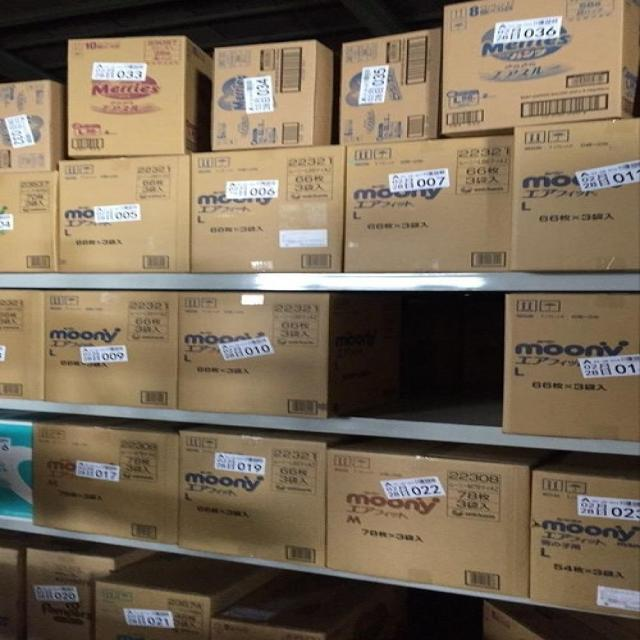box: (328, 432, 558, 596), (181, 290, 399, 417), (442, 1, 639, 137), (179, 422, 357, 566), (336, 134, 514, 271), (31, 415, 204, 542), (185, 145, 346, 272), (503, 293, 639, 440), (512, 118, 639, 271), (527, 451, 638, 617), (71, 34, 212, 159), (88, 553, 281, 636), (46, 289, 180, 408), (60, 152, 189, 271), (206, 570, 420, 638), (20, 535, 157, 638), (215, 41, 341, 150), (343, 28, 440, 145), (330, 591, 485, 638), (2, 408, 66, 518), (2, 78, 67, 172), (0, 170, 58, 273), (482, 601, 636, 637), (2, 289, 45, 399), (0, 530, 37, 639)
